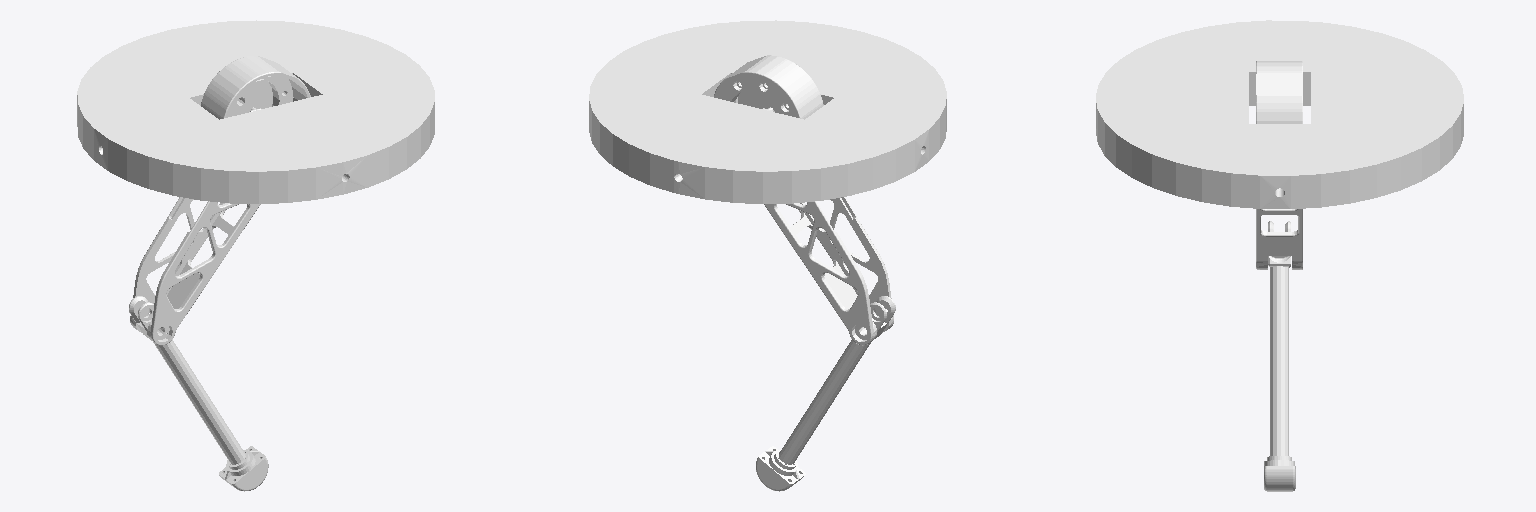
URDF robot description (OneLeg2D):
<?xml version="1.0" encoding="utf-8"?>
<!-- This URDF was automatically created by SolidWorks to URDF Exporter! Originally created by [author] ([email redacted]) 
     Commit Version: 1.6.0-4-g7f85cfe  Build Version: 1.6.7995.38578
     For more information, please see http://wiki.ros.org/sw_urdf_exporter -->
<robot
  name="OneLeg2D">
  <link name="base">
    <inertial>
      <origin xyz="0 0 0" rpy="0 0 0" />
      <mass value="0.001" />
      <inertia ixx="0.00001" ixy="0" ixz="0" iyy="0.00001" iyz="0" izz="0.00001" />
    </inertial>
    <visual>
      <origin rpy="0 0 0" xyz="0 0 0"/>
      <geometry>
        <box size="0.001 0.001 0.001"/>
      </geometry>
      <material name="">
        <color rgba="1 1 1 0" />
      </material>
    </visual>
  </link>
  <joint name="floating_base" type="planar">
    <origin rpy="0 0 0" xyz="0 0 0"/>
    <parent link="base"/>
    <child link="Body_Link"/>
    <axis xyz="0 1 0" />
  </joint>
  <link name="Body_Link">
    <inertial>
      <origin
        xyz="-4.68738960327283E-07 6.84081833553076E-06 0.0299999971870418" rpy="0 0 0" />
      <mass value="120" />
      <inertia
        ixx="0.38183686549479"
        ixy="-2.85259253115318E-08"
        ixz="1.74153183689771E-07"
        iyy="0.378920595449684"
        iyz="5.02659143973226E-09"
        izz="0.751304758398737" />
    </inertial>
    <visual>
      <origin xyz="0 0 0" rpy="0 0 0" />
      <geometry>
        <mesh filename="package://OneLeg2D/meshes/Body_Link.STL" />
      </geometry>
      <material name="">
        <color rgba="1 1 1 1" />
      </material>
    </visual>
    <collision>
      <origin xyz="0 0 0" rpy="0 0 0" />
      <geometry>
        <mesh filename="package://OneLeg2D/meshes/Body_Link.STL" />
      </geometry>
    </collision>
  </link>
  <link name="Roll_Link">
    <inertial>
      <origin xyz="-3.13363478493992E-07 -3.13363478495251E-07 0.03" rpy="0 0 0" />
      <mass value="0.00247436658781711" />
      <inertia
        ixx="7.40251225622148E-08"
        ixy="2.42974557929604E-16"
        ixz="1.02097316129604E-11"
        iyy="7.40251225622148E-08"
        iyz="-1.02097316129553E-11"
        izz="1.15495108440108E-07" />
    </inertial>
    <visual>
      <origin
        xyz="0 0 0"
        rpy="0 0 0" />
      <geometry>
        <mesh
          filename="package://OneLeg2D/meshes/Roll_Link.STL" />
      </geometry>
      <material
        name="">
        <color
          rgba="1 1 1 1" />
      </material>
    </visual>
    <collision>
      <origin
        xyz="0 0 0"
        rpy="0 0 0" />
      <geometry>
        <mesh
          filename="package://OneLeg2D/meshes/Roll_Link.STL" />
      </geometry>
    </collision>
  </link>
  <joint
    name="Roll_Joint"
    type="revolute">
    <origin
      xyz="0 0 0"
      rpy="0 0 0" />
    <parent
      link="Body_Link" />
    <child
      link="Roll_Link" />
    <axis
      xyz="-1 0 0" />
    <limit
      lower="-1"
      upper="1"
      effort="0"
      velocity="0" />
  </joint>
  <link
    name="Pitch_Link">
    <inertial>
      <origin xyz="-0.0451612504225143 0.0066279647340668 -0.0624231735768729" rpy="0 0 0" />
      <mass value="10" />
      <inertia
        ixx="0.0139521713724596"
        ixy="-0.000271163847344455"
        ixz="-0.00650399627363935"
        iyy="0.018954091010817"
        iyz="-0.000555643100256628"
        izz="0.00622963959046108" />
    </inertial>
    <visual>
      <origin
        xyz="0 0 0"
        rpy="0 0 0" />
      <geometry>
        <mesh
          filename="package://OneLeg2D/meshes/Pitch_Link.STL" />
      </geometry>
      <material
        name="">
        <color
          rgba="1 1 1 1" />
      </material>
    </visual>
    <collision>
      <origin
        xyz="0 0 0"
        rpy="0 0 0" />
      <geometry>
        <mesh
          filename="package://OneLeg2D/meshes/Pitch_Link.STL" />
      </geometry>
    </collision>
  </link>
  <joint
    name="Pitch_Joint"
    type="revolute">
    <origin
      xyz="0 0 0"
      rpy="0 0 0" />
    <parent
      link="Roll_Link" />
    <child
      link="Pitch_Link" />
    <axis
      xyz="0 1 0" />
    <limit
      lower="-1"
      upper="1"
      effort="0"
      velocity="0" />
  </joint>
  <link
    name="Knee_Link">
    <inertial>
      <origin xyz="0.0539077857073315 1.33729204814838E-09 -0.0943103284457157" rpy="0 0 0" />
      <mass value="5" />
      <inertia
        ixx="0.000504047563938724"
        ixy="-3.29867672623702E-12"
        ixz="0.000275859527116135"
        iyy="0.000662718544760277"
        iyz="-2.43503043283472E-11"
        izz="0.000185094181562212" />
    </inertial>
    <visual>
      <origin
        xyz="0 0 0"
        rpy="0 0 0" />
      <geometry>
        <mesh
          filename="package://OneLeg2D/meshes/Knee_Link.STL" />
      </geometry>
      <material
        name="">
        <color
          rgba="1 1 1 1" />
      </material>
    </visual>
    <collision>
      <origin
        xyz="0 0 0"
        rpy="0 0 0" />
      <geometry>
        <mesh
          filename="package://OneLeg2D/meshes/Knee_Link.STL" />
      </geometry>
    </collision>
  </link>
  <joint
    name="Knee_Joint"
    type="continuous">
    <origin
      xyz="-0.199999999999974 -0.000499999999999992 -0.316410161513791"
      rpy="0 0 0" />
    <parent
      link="Pitch_Link" />
    <child
      link="Knee_Link" />
    <axis
      xyz="0 -1 0" />
  </joint>
  <link
    name="Foot_Link">
    <inertial>
      <origin
        xyz="-1.3356E-10 -2.5036E-05 -0.010497"
        rpy="0 0 0" />
      <mass
        value="0.10925" />
      <inertia
        ixx="3.3199E-05"
        ixy="-1.8907E-13"
        ixz="2.3284E-13"
        iyy="4.5593E-05"
        iyz="-2.4906E-09"
        izz="6.591E-05" />
    </inertial>
    <visual>
      <origin
        xyz="0 0 0"
        rpy="0 0 0" />
      <geometry>
        <mesh
          filename="package://OneLeg2D/meshes/Foot_Link.STL" />
      </geometry>
      <material
        name="">
        <color
          rgba="1 1 1 1" />
      </material>
    </visual>
    <collision>
      <origin
        xyz="0 0 0"
        rpy="0 0 0" />
      <geometry>
        <mesh
          filename="package://OneLeg2D/meshes/Foot_Link.STL" />
      </geometry>
    </collision>
  </link>
  <joint name="Foot_Joint" type="fixed">
    <origin xyz="0.17355 0 -0.3006" rpy="0 -0.5236 0" />
    <parent link="Knee_Link" />
    <child link="Foot_Link" />
    <axis xyz="0 0 1" />
  </joint>
</robot>

--- What the picture shows (computed from the rendered views, not written in the file) ---
The picture shows the robot from 3 angles, left to right: view 1: azimuth 30°, elevation 25°; view 2: azimuth 150°, elevation 25°; view 3: azimuth 270°, elevation 25°; orthographic projection.
Robot: OneLeg2D — 6 links, 5 joints (2 revolute, 1 continuous, 1 fixed, 1 planar); root link base; default pose: every joint at zero.
Visible links, largest first — view 1: Body_Link, Pitch_Link, Knee_Link, Foot_Link; view 2: Body_Link, Pitch_Link, Knee_Link, Foot_Link; view 3: Body_Link, Pitch_Link, Knee_Link, Foot_Link.
Boxes of the visible links, x1,y1,x2,y2 form: Body_Link: (77,20,434,203); Pitch_Link: (130,56,310,345); Knee_Link: (129,296,245,464); Foot_Link: (219,446,268,491); Body_Link: (589,20,946,203); Pitch_Link: (714,55,893,345); Knee_Link: (779,296,895,464); Foot_Link: (756,446,805,491); Body_Link: (1096,20,1463,208); Pitch_Link: (1256,61,1302,269); Knee_Link: (1268,221,1290,455); Foot_Link: (1264,456,1295,491).
Bounding box of the posed robot: 0.6 × 0.6 × 0.7725 m (x, y, z).
5 mesh visuals loaded from 5 distinct referenced files (5 binary STL).